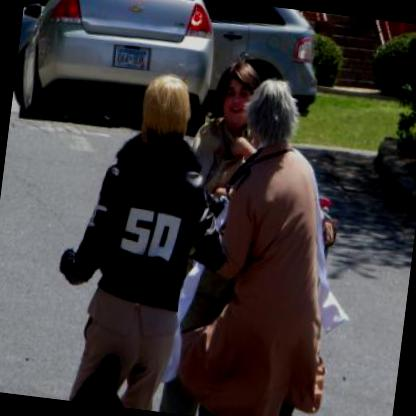car: (11, 0, 326, 142), (10, 0, 221, 138)
